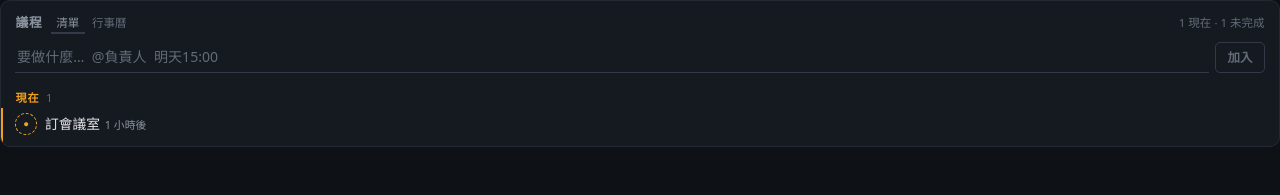
Test: AgendaPanel › reports a refused change instead of looking like it worked
Step 1. Click the button named "訂會議室:現在" → (26, 124), box top-left (15, 114), bottom-right (37, 135)
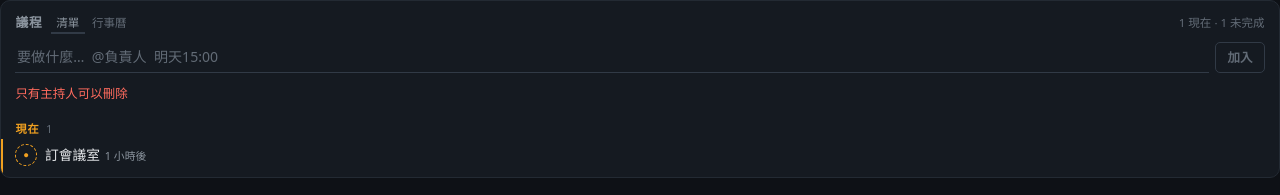
Expected: the text "只有主持人可以刪除" is shown, top-left (15, 85), bottom-right (128, 102)
